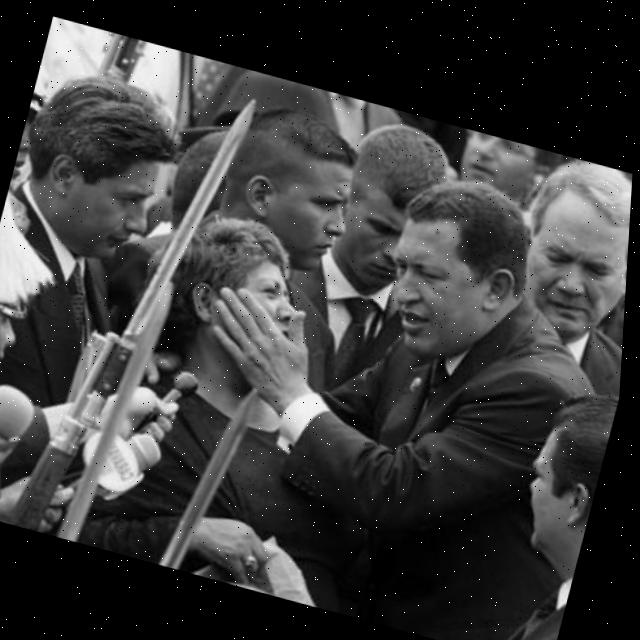face: (369, 180, 537, 380), (509, 153, 633, 363), (31, 117, 175, 286), (183, 231, 321, 400), (243, 128, 364, 284), (448, 128, 545, 205)
